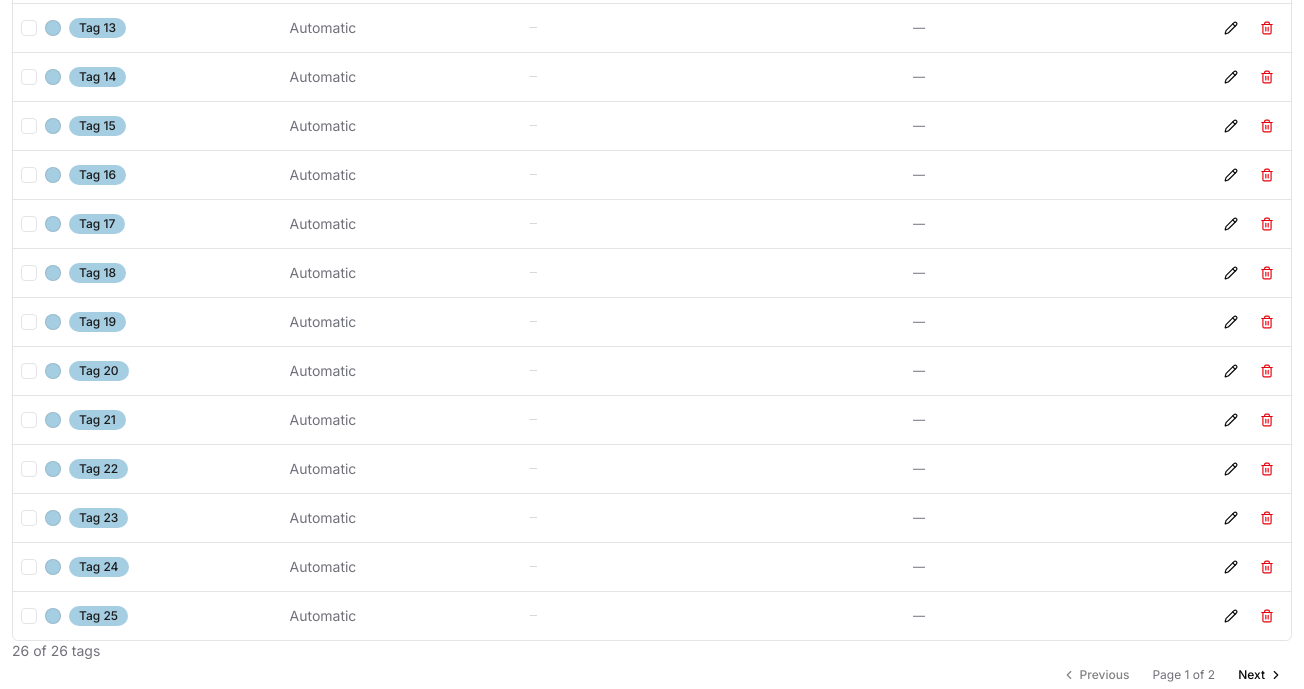
Management table refinements › paginates tags after the first 25 rows
(page scrolled)
Expected: the list item "Page 1 of 2" is shown, x1=1152 y1=666 x2=1215 y2=682
Expected: the text "Tag 26" is not shown
Step 1. Click the link with aria-label "Go to next page" → (1261, 674), box x1=1238 y1=667 x2=1283 y2=682
(page scrolled)
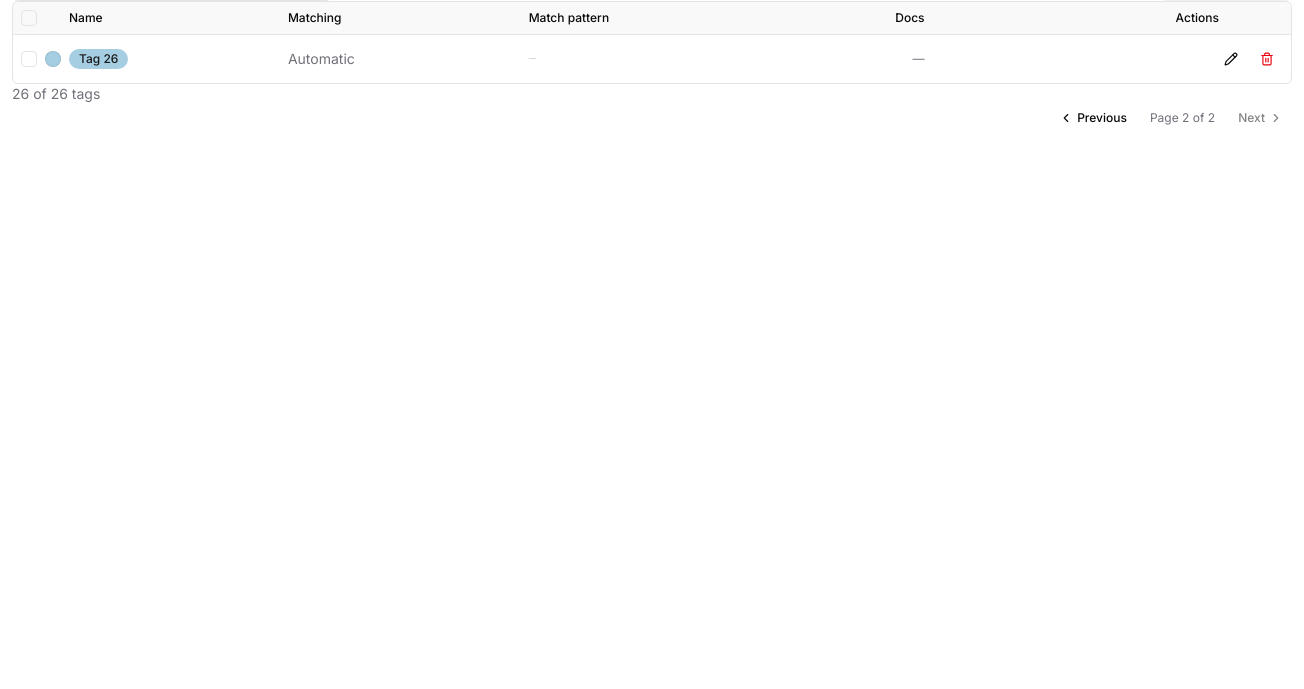
Now the list item "Page 2 of 2" is shown, box x1=1150 y1=110 x2=1215 y2=124
Now the text "Tag 26" is shown, box x1=69 y1=48 x2=128 y2=68
